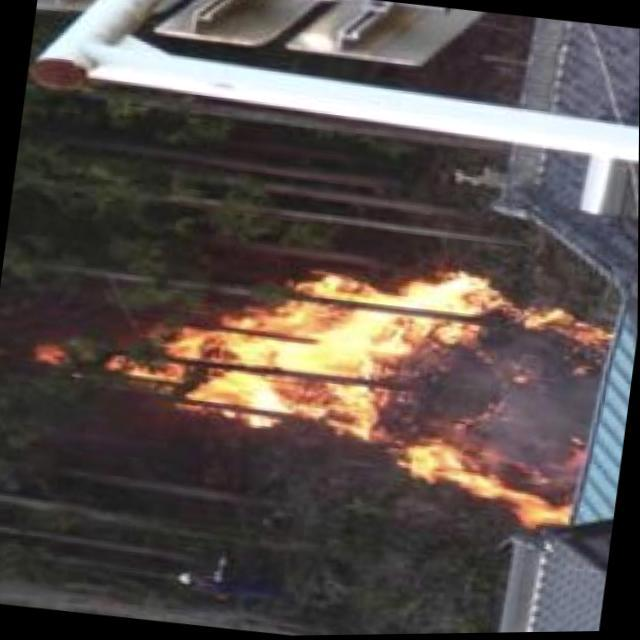fire: (136, 235, 606, 542)
